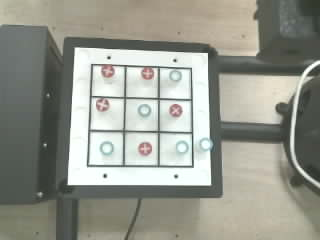blue circle: (176, 140, 189, 154), (100, 141, 113, 155), (200, 138, 213, 151), (138, 104, 151, 116), (169, 70, 181, 81)
board: (67, 46, 213, 186)
cells: (89, 132, 122, 165), (125, 133, 157, 165), (160, 133, 192, 165), (92, 65, 124, 96), (91, 98, 123, 129), (125, 99, 157, 130), (160, 100, 191, 131), (126, 67, 157, 97), (160, 68, 190, 98)
grid: (87, 64, 193, 167)
red cross: (138, 142, 151, 155), (96, 98, 109, 111), (101, 65, 114, 77), (169, 104, 182, 116), (141, 67, 153, 79)
